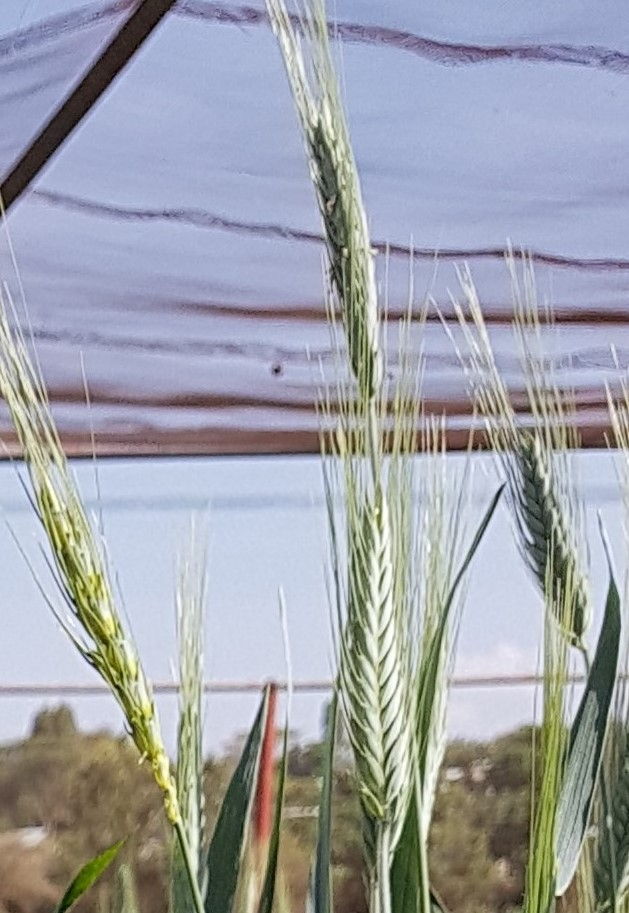Healthy Wheat: (327, 485, 439, 823), (491, 402, 618, 636)
